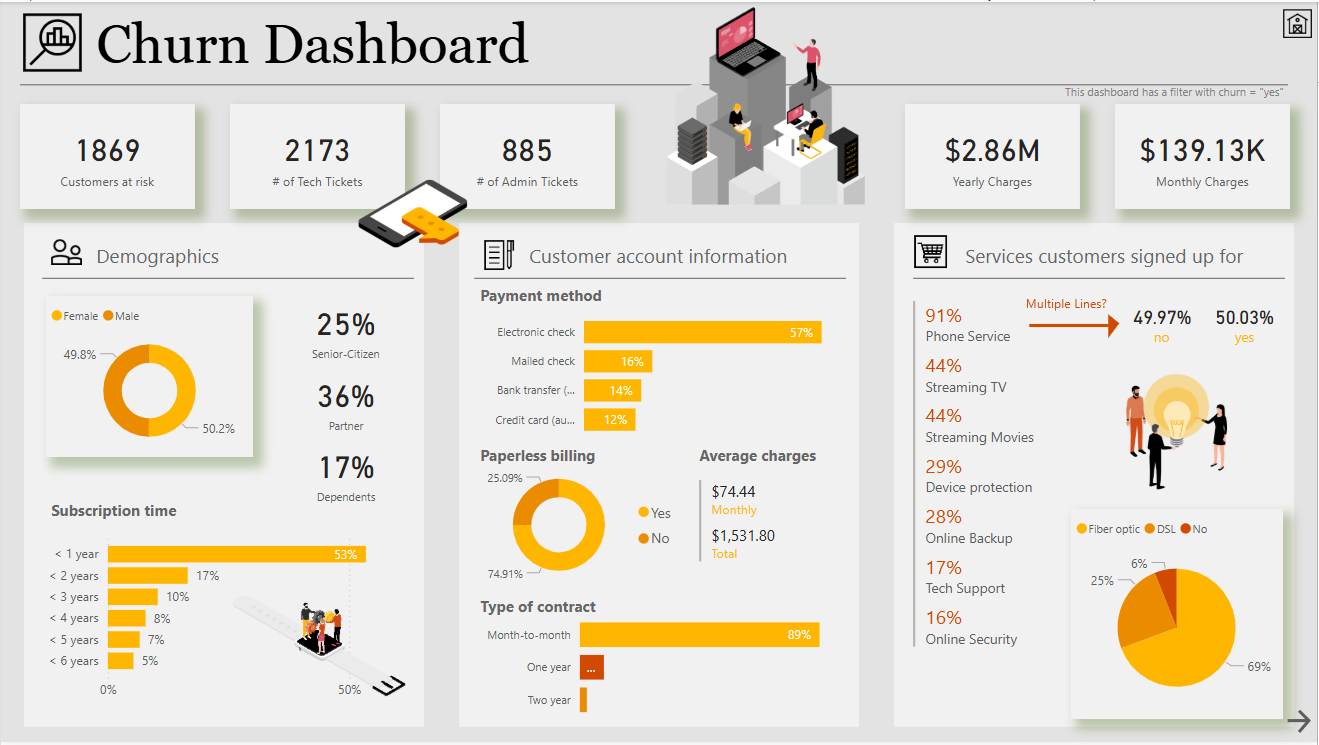

This screenshot's page, from the dashboard's own definition file:
{"tool":"powerbi","page":{"name":"Churn","canvas":[1280,720],"ordinal":1},"visuals":[{"type":"textbox","box":[87.7,4.9,1173.8,75],"z":0},{"type":"basicShape","box":[8.7,60.7,1253,40.5],"z":1000},{"type":"basicShape","box":[18.3,210,396.8,499.9],"z":2000},{"type":"card","fields":{"Values":["CountNonNull(churn.customerID)"]},"box":[18.5,99.4,170,102.3],"z":3000},{"type":"basicShape","box":[441.6,210,396.8,499.9],"z":4000},{"type":"basicShape","box":[864.9,210,396.8,499.9],"z":5000},{"type":"textbox","box":[508.5,228.6,314.9,35.6],"z":6000},{"type":"basicShape","box":[450.7,248.9,381.4,39.5],"z":7000},{"type":"image","box":[461.3,226.3,47.2,39.5],"z":8000},{"type":"textbox","box":[932.7,228.6,314.9,35.6],"z":9000},{"type":"basicShape","box":[877.4,248.9,381.4,39.5],"z":10000},{"type":"textbox","box":[88,228.6,314.9,35.6],"z":11000},{"type":"basicShape","box":[30.2,248.9,381.4,39.5],"z":12000},{"type":"image","box":[883.2,220.6,42.4,43.3],"z":13000},{"type":"image","box":[43.3,220.6,40.5,44.3],"z":14000},{"type":"donutChart","fields":{"Category":["churn.gender"],"Y":["CountNonNull(churn.gender)"]},"box":[43.8,286,201.3,156.6],"z":15000},{"type":"card","fields":{"Values":["churn.SeniorCitizen in %"]},"box":[271.4,268.7,128.1,100.2],"z":16000},{"type":"card","fields":{"Values":["churn.Partner in %"]},"box":[271.4,338.1,128.4,100.2],"z":17000},{"type":"card","fields":{"Values":["churn.Dependents in %"]},"box":[271.4,407.5,128.4,100.2],"z":18000},{"type":"clusteredBarChart","fields":{"Category":["churn.Contract"],"Y":["CountNonNull(churn.Contract)"]},"box":[461.3,577.9,370.8,131.9],"z":19000},{"type":"clusteredBarChart","fields":{"Y":["CountNonNull(churn.PaymentMethod)"],"Category":["churn.PaymentMethod"]},"box":[461.3,286,370.8,148.3],"z":20000},{"type":"textbox","box":[461.3,269.7,314.9,35.6],"z":21000},{"type":"textbox","box":[461.3,424.7,204.2,35.6],"z":22000},{"type":"donutChart","fields":{"Category":["churn.PaperlessBilling"],"Y":["CountNonNull(churn.PaperlessBilling)"]},"box":[461.3,438.2,204.2,139.7],"z":23000},{"type":"multiRowCard","fields":{"Values":["Avg(churn.MonthlyCharges)","Avg(churn.TotalCharges)"]},"box":[674.2,460.4,149.3,95.3],"z":24000},{"type":"textbox","box":[461.3,572.1,314.9,35.6],"z":25000},{"type":"pieChart","fields":{"Category":["churn.InternetService"],"Y":["Divide(CountNonNull(churn.InternetService), ScopedEval(CountNonNull(churn.InternetService), []))"]},"box":[1040.4,492.9,205.5,203.6],"z":26000},{"type":"card","fields":{"Values":["churn.Multiple Lines in %"]},"box":[1172.8,276.4,72.2,62.6],"z":27000},{"type":"card","fields":{"Values":["churn.Multiple lines no in %"]},"box":[1093.1,276.4,72.2,61.6],"z":28000},{"type":"textbox","box":[971.7,278.2,129.4,27.2],"z":29000},{"type":"textbox","box":[1092.2,311,73.2,35.6],"z":30000},{"type":"textbox","box":[1172.8,311,73.2,35.6],"z":31000},{"type":"textbox","box":[674.2,424.7,148.3,35.6],"z":32000},{"type":"multiRowCard","fields":{"Values":["churn.Phone Service in %","churn.Streaming TV in %","churn.Streaming Movies in %","churn.Device protection in %","churn.Online Bacup in %","churn.Tech Support in %","churn.Online Sec. in %"]},"box":[882.2,286,165.3,414.3],"z":33000},{"type":"basicShape","box":[990.2,300.5,97.3,28.2],"z":34000},{"type":"basicShape","box":[1063.1,296.7,37.9,32.1],"z":35000},{"type":"clusteredBarChart","fields":{"Y":["CountNonNull(churn.Churn)"],"Category":["churn.Loyalty"]},"box":[37,507.7,365.7,179],"z":36000},{"type":"textbox","box":[43.8,478.5,314.2,35],"z":37000},{"type":"image","box":[1048.2,356.5,190.9,121.8],"z":38000},{"type":"actionButton","box":[1246.1,680.1,31.6,39.5],"z":39000},{"type":"image","box":[16.6,4.9,67.2,68.2],"z":40000},{"type":"card","fields":{"Values":["Sum(churn.MonthlyCharges)"]},"box":[1083.9,99.4,170,102.3],"z":41000},{"type":"image","box":[634.9,0,216.9,202.2],"z":42000},{"type":"image","box":[221.1,556.2,178.3,139.3],"z":43000},{"type":"card","fields":{"Values":["Sum(churn.numTechTickets)"]},"box":[222.8,99.4,170,102.3],"z":44000},{"type":"card","fields":{"Values":["Sum(churn.numAdminTickets)"]},"box":[427.1,99.4,170,102.3],"z":45000},{"type":"card","fields":{"Values":["Sum(churn.TotalCharges)"]},"box":[879.7,99.4,170,102.3],"z":46000},{"type":"textbox","box":[897,72.3,355.9,30.5],"z":47000},{"type":"image","box":[341.9,151,115.9,108.1],"z":48000},{"type":"image","box":[1242,0,38,42.9],"z":49000}]}

Visuals, with their boxes in screenshot pixels (x1, y1, x2, y2), scaled from the page's 1280x720 canvas onto the 1319x745 screenshot:
textbox: box(90, 5, 1300, 83)
basicShape: box(9, 63, 1300, 105)
basicShape: box(19, 217, 428, 735)
card - CountNonNull(churn.customerID): box(19, 103, 194, 209)
basicShape: box(455, 217, 864, 735)
basicShape: box(891, 217, 1300, 735)
textbox: box(524, 237, 848, 273)
basicShape: box(464, 258, 857, 298)
image: box(475, 234, 524, 275)
textbox: box(961, 237, 1286, 273)
basicShape: box(904, 258, 1297, 298)
textbox: box(91, 237, 415, 273)
basicShape: box(31, 258, 424, 298)
image: box(910, 228, 954, 273)
image: box(45, 228, 86, 274)
donutChart - churn.gender x CountNonNull(churn.gender): box(45, 296, 253, 458)
card - churn.SeniorCitizen in %: box(280, 278, 412, 382)
card - churn.Partner in %: box(280, 350, 412, 454)
card - churn.Dependents in %: box(280, 422, 412, 525)
clusteredBarChart - churn.Contract x CountNonNull(churn.Contract): box(475, 598, 857, 734)
clusteredBarChart - CountNonNull(churn.PaymentMethod) x churn.PaymentMethod: box(475, 296, 857, 449)
textbox: box(475, 279, 800, 316)
textbox: box(475, 439, 686, 476)
donutChart - churn.PaperlessBilling x CountNonNull(churn.PaperlessBilling): box(475, 453, 686, 598)
multiRowCard - Avg(churn.MonthlyCharges) x Avg(churn.TotalCharges): box(695, 476, 849, 575)
textbox: box(475, 592, 800, 629)
pieChart - churn.InternetService x Divide(CountNonNull(churn.InternetService), ScopedEval(CountNonNull(churn.InternetService), [])): box(1072, 510, 1284, 721)
card - churn.Multiple Lines in %: box(1209, 286, 1283, 351)
card - churn.Multiple lines no in %: box(1126, 286, 1201, 350)
textbox: box(1001, 288, 1135, 316)
textbox: box(1125, 322, 1201, 359)
textbox: box(1209, 322, 1284, 359)
textbox: box(695, 439, 848, 476)
multiRowCard - churn.Phone Service in % x churn.Streaming TV in %: box(909, 296, 1079, 725)
basicShape: box(1020, 311, 1121, 340)
basicShape: box(1095, 307, 1135, 340)
clusteredBarChart - CountNonNull(churn.Churn) x churn.Loyalty: box(38, 525, 415, 711)
textbox: box(45, 495, 369, 531)
image: box(1080, 369, 1277, 495)
actionButton: box(1284, 704, 1317, 744)
image: box(17, 5, 86, 76)
card - Sum(churn.MonthlyCharges): box(1117, 103, 1292, 209)
image: box(654, 0, 878, 209)
image: box(228, 576, 412, 720)
card - Sum(churn.numTechTickets): box(230, 103, 405, 209)
card - Sum(churn.numAdminTickets): box(440, 103, 615, 209)
card - Sum(churn.TotalCharges): box(907, 103, 1082, 209)
textbox: box(924, 75, 1291, 106)
image: box(352, 156, 472, 268)
image: box(1280, 0, 1318, 44)
